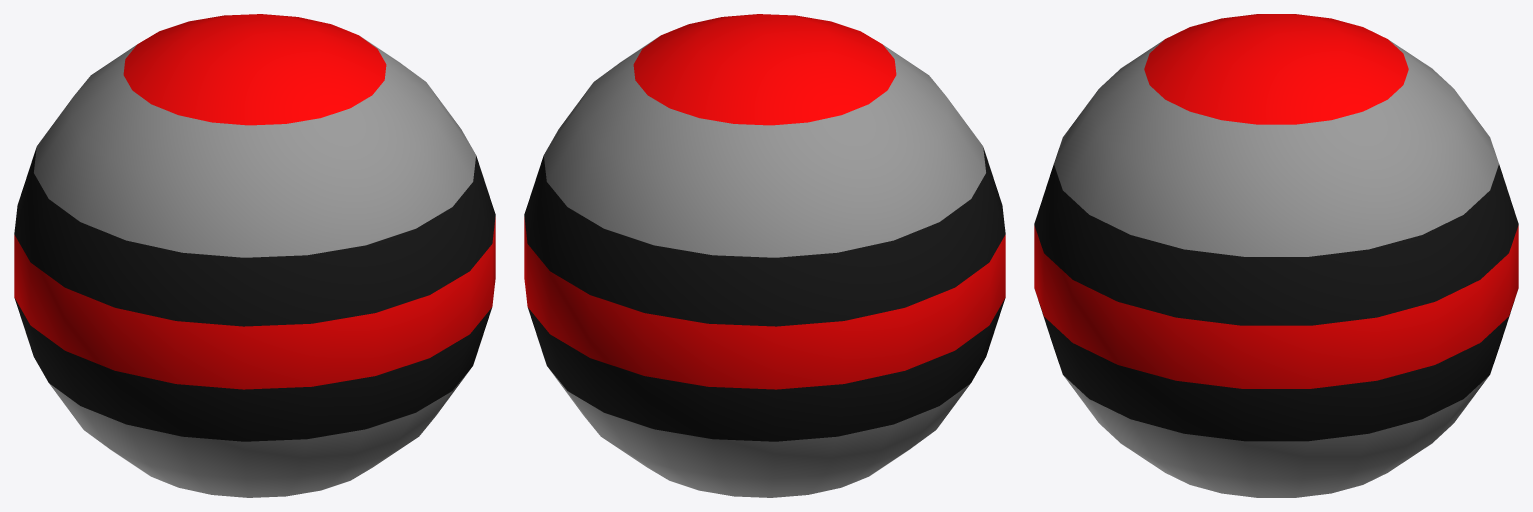
Rendered from Bomba.fbx.
3 renders of one model, left to right at view 1: azimuth 30°, elevation 25°; view 2: azimuth 150°, elevation 25°; view 3: azimuth 270°, elevation 25°, orthographic.
Parts seen in each view (by area): view 1: Bomba; view 2: Bomba; view 3: Bomba.
Part boxes in pixels (left/top/right/bottom): Bomba: left=14, top=14, right=495, bottom=497; Bomba: left=524, top=14, right=1005, bottom=497; Bomba: left=1034, top=14, right=1518, bottom=497.
Bounding box in the file's own units: 294 × 300 × 297.
